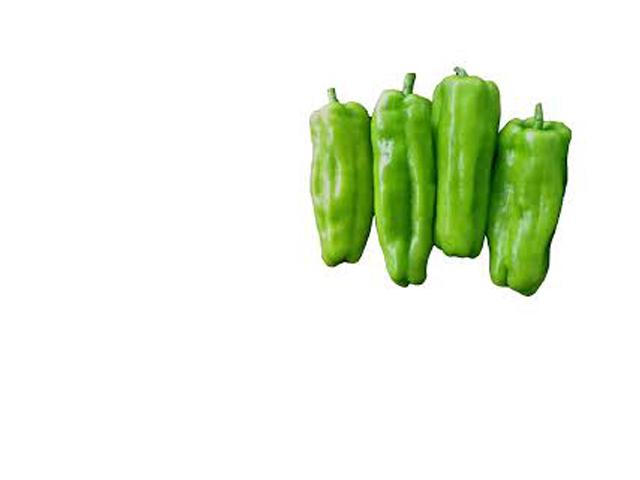bell_pepper: (486, 92, 569, 310)
